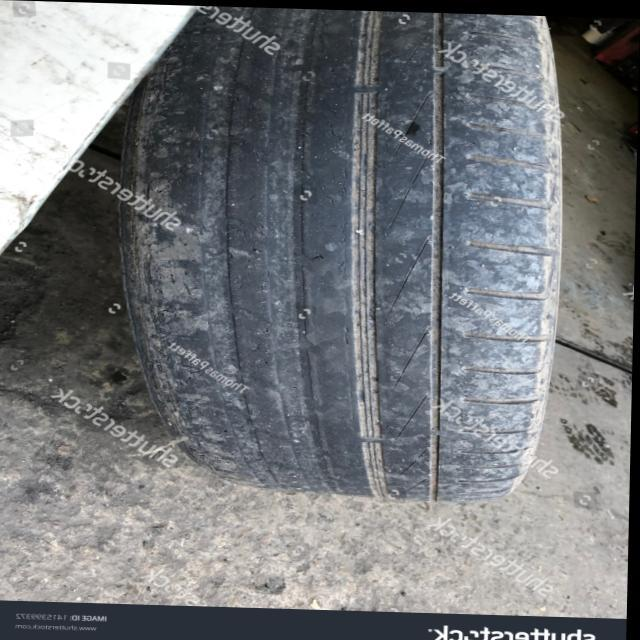Flat spots: (197, 40, 375, 437)
